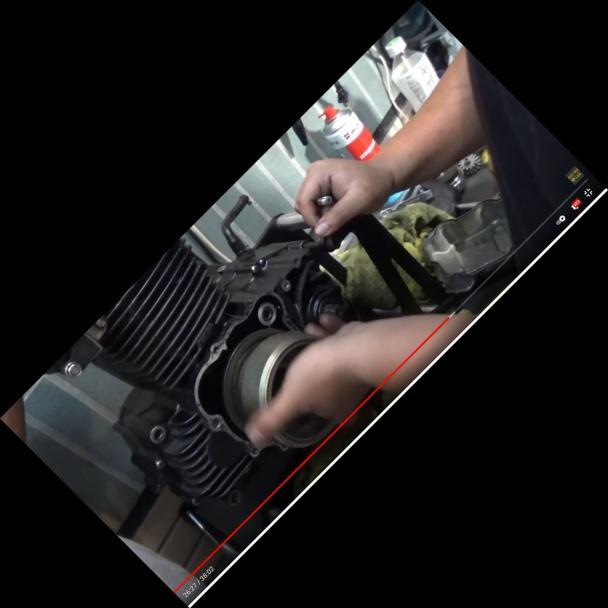hole: (256, 302, 278, 324), (148, 424, 167, 444), (225, 488, 244, 508), (207, 414, 224, 431), (278, 277, 294, 294), (210, 344, 222, 356)
